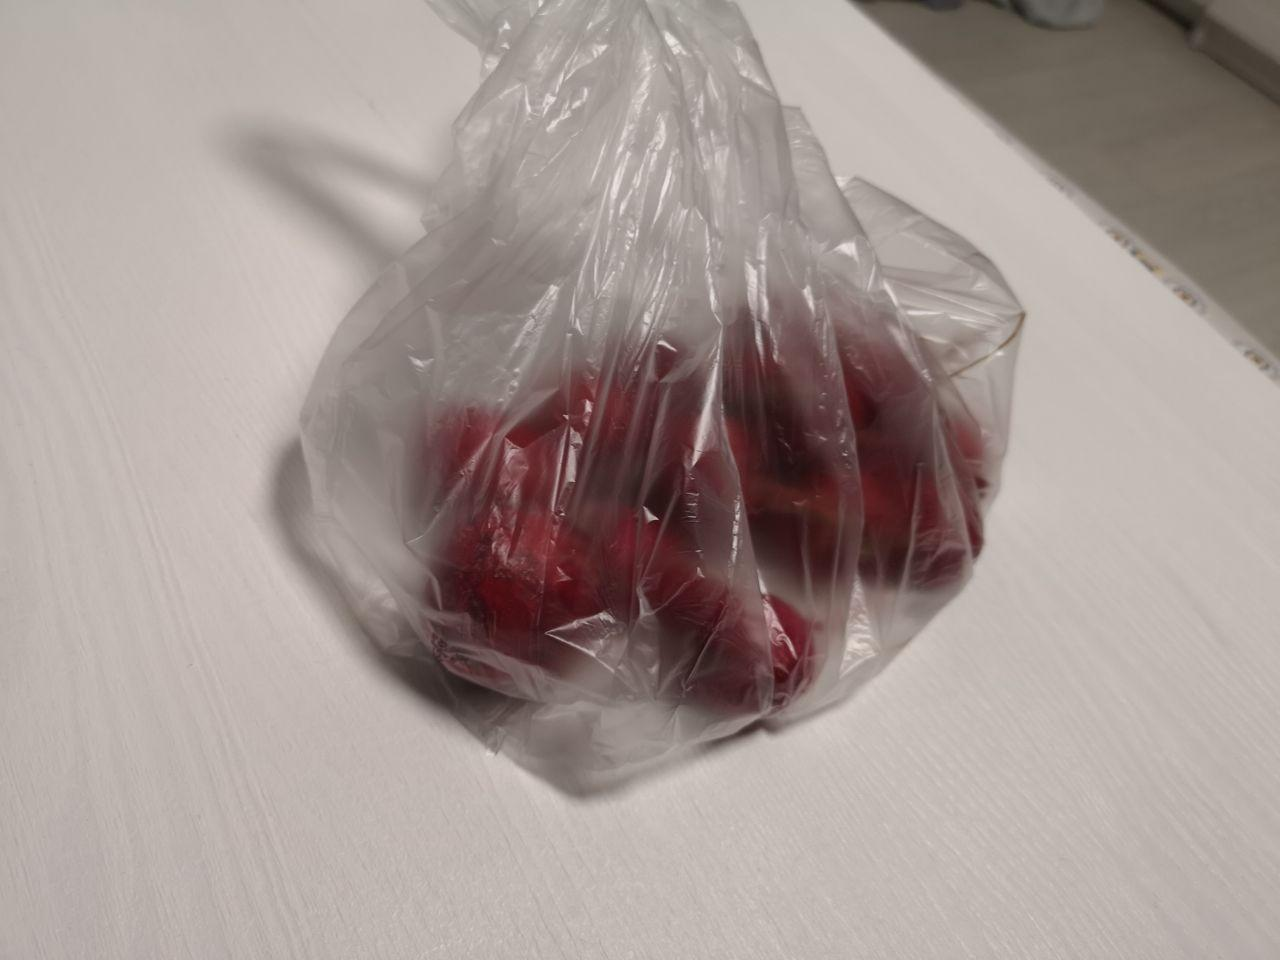redish: (276, 163, 1065, 792)
